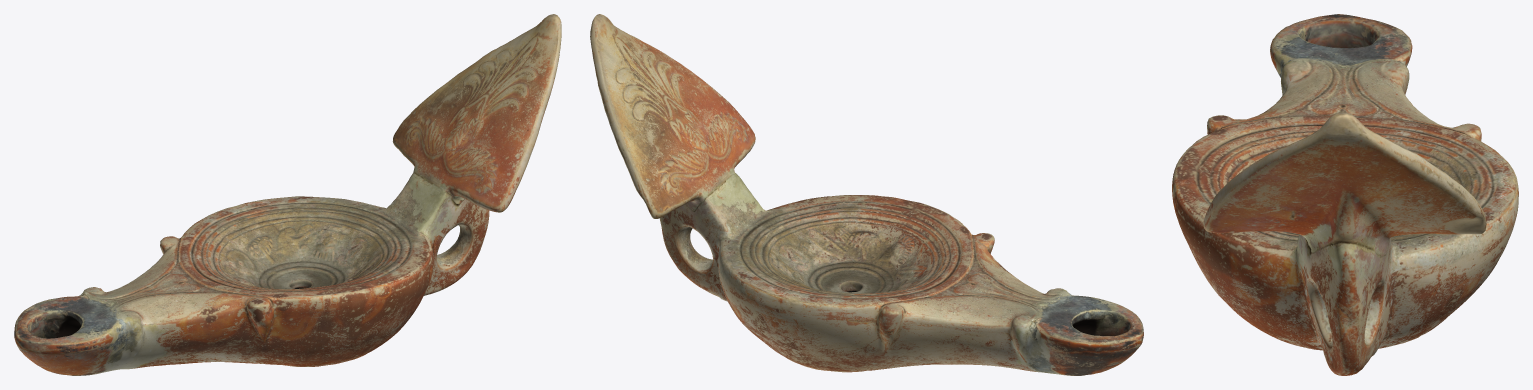
The model's file is oil_lamp.glb.
3 views of the same model, side by side, from view 1: azimuth 30°, elevation 25°; view 2: azimuth 150°, elevation 25°; view 3: azimuth 270°, elevation 25° (orthographic). The views are drawn at different scales.
Visible parts, largest first — view 1: lamp.03-sculpt_Baked_lamp.03-sculpt_Bake1_baked_0; view 2: lamp.03-sculpt_Baked_lamp.03-sculpt_Bake1_baked_0; view 3: lamp.03-sculpt_Baked_lamp.03-sculpt_Bake1_baked_0.
Part boxes in pixels (bbox=[...]): lamp.03-sculpt_Baked_lamp.03-sculpt_Bake1_baked_0: bbox=[14, 14, 561, 375]; lamp.03-sculpt_Baked_lamp.03-sculpt_Bake1_baked_0: bbox=[590, 14, 1143, 375]; lamp.03-sculpt_Baked_lamp.03-sculpt_Bake1_baked_0: bbox=[1172, 14, 1518, 375].
Bounding box in the file's own units: 2 × 0.9362 × 0.8094.
Materials: 1 (1 with a texture image).
